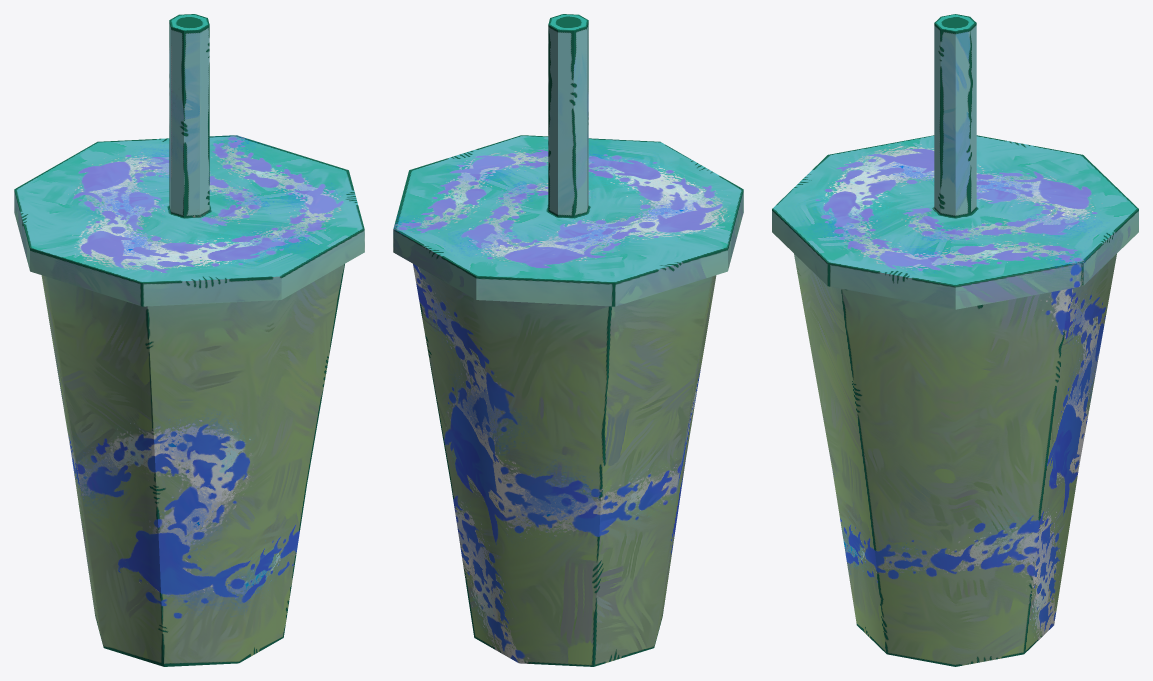
File: Merch_Cup.fbx
The picture shows the model from 3 angles, left to right: view 1: azimuth 30°, elevation 25°; view 2: azimuth 150°, elevation 25°; view 3: azimuth 270°, elevation 25°; orthographic projection.
Visible parts, largest first — view 1: pCube11; view 2: pCube11; view 3: pCube11.
Boxes of the visible parts, box(x1,y1,x2,y2) form: pCube11: box(14, 14, 364, 666); pCube11: box(393, 14, 743, 666); pCube11: box(772, 14, 1138, 666).
Size of the model in its own units: 0.792 by 1.44 by 0.792.
1 material, 1 textured.
